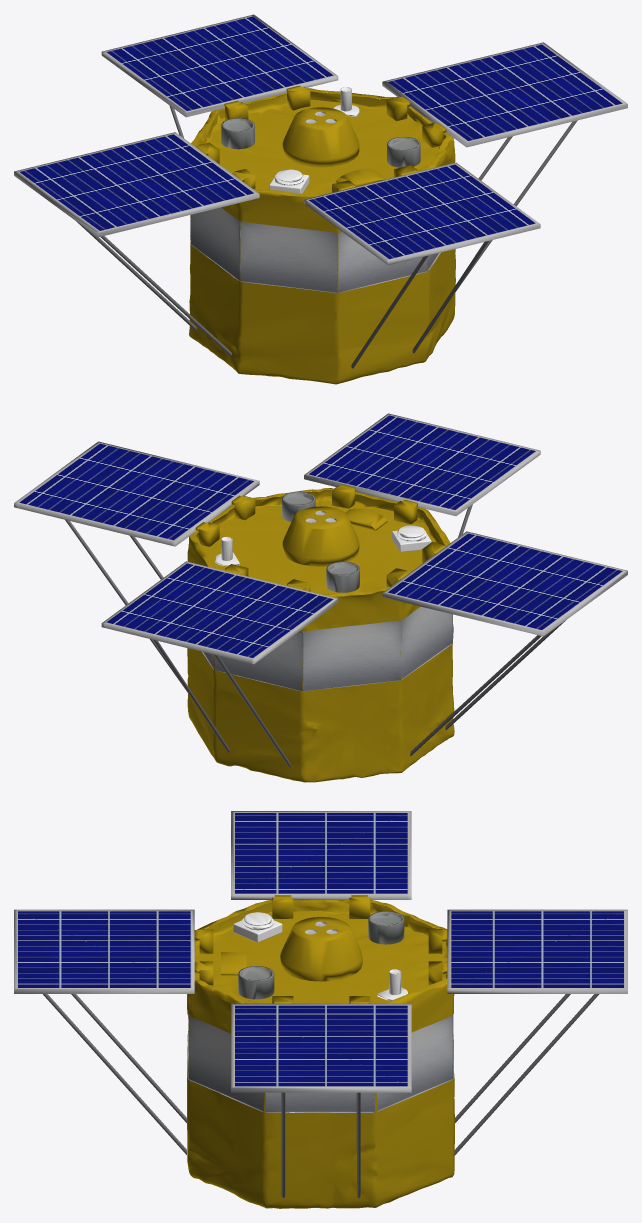
Rendered from acrimsat.glb.
3 views of the same model, one above another, from view 1: azimuth 30°, elevation 25°; view 2: azimuth 150°, elevation 25°; view 3: azimuth 270°, elevation 25° (orthographic). The views are drawn at different scales.
Visible parts, largest first — view 1: Acrimsat_vFINAL [Layer2], Acrimsat_vFINAL [Layer1], Acrimsat_vFINAL [Layer7], Acrimsat_vFINAL [Layer3], Acrimsat_vFINAL [Layer5], Acrimsat_vFINAL [Layer6]; view 2: Acrimsat_vFINAL [Layer2], Acrimsat_vFINAL [Layer1], Acrimsat_vFINAL [Layer7], Acrimsat_vFINAL [Layer3], Acrimsat_vFINAL [Layer5], Acrimsat_vFINAL [Layer6]; view 3: Acrimsat_vFINAL [Layer2], Acrimsat_vFINAL [Layer1], Acrimsat_vFINAL [Layer7], Acrimsat_vFINAL [Layer3], Acrimsat_vFINAL [Layer5], Acrimsat_vFINAL [Layer6].
Part boxes in pixels (x1,y1,x2,y2): Acrimsat_vFINAL [Layer2]: (20, 16, 622, 259); Acrimsat_vFINAL [Layer1]: (189, 85, 455, 384); Acrimsat_vFINAL [Layer7]: (14, 14, 627, 368); Acrimsat_vFINAL [Layer3]: (190, 207, 440, 292); Acrimsat_vFINAL [Layer5]: (221, 111, 420, 167); Acrimsat_vFINAL [Layer6]: (269, 87, 359, 193); Acrimsat_vFINAL [Layer2]: (19, 415, 622, 657); Acrimsat_vFINAL [Layer1]: (187, 484, 454, 782); Acrimsat_vFINAL [Layer7]: (14, 413, 627, 767); Acrimsat_vFINAL [Layer3]: (202, 606, 453, 691); Acrimsat_vFINAL [Layer5]: (282, 491, 359, 592); Acrimsat_vFINAL [Layer6]: (215, 525, 431, 566); Acrimsat_vFINAL [Layer2]: (18, 813, 623, 1086); Acrimsat_vFINAL [Layer1]: (187, 895, 454, 1208); Acrimsat_vFINAL [Layer7]: (14, 811, 627, 1198); Acrimsat_vFINAL [Layer3]: (187, 1015, 453, 1112); Acrimsat_vFINAL [Layer5]: (238, 911, 404, 999); Acrimsat_vFINAL [Layer6]: (233, 912, 407, 1000).
Size of the model in its own units: 11051 by 4223 by 10351.
Materials: 8 (8 with a texture image).
